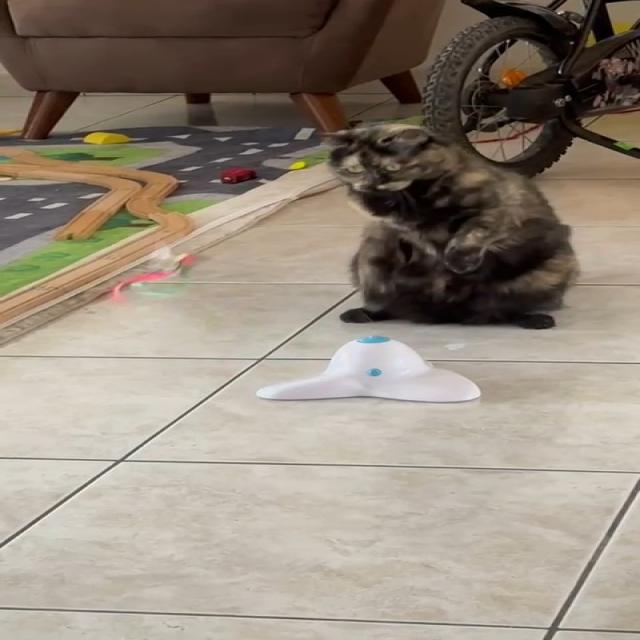authorized: (324, 121, 580, 330)
